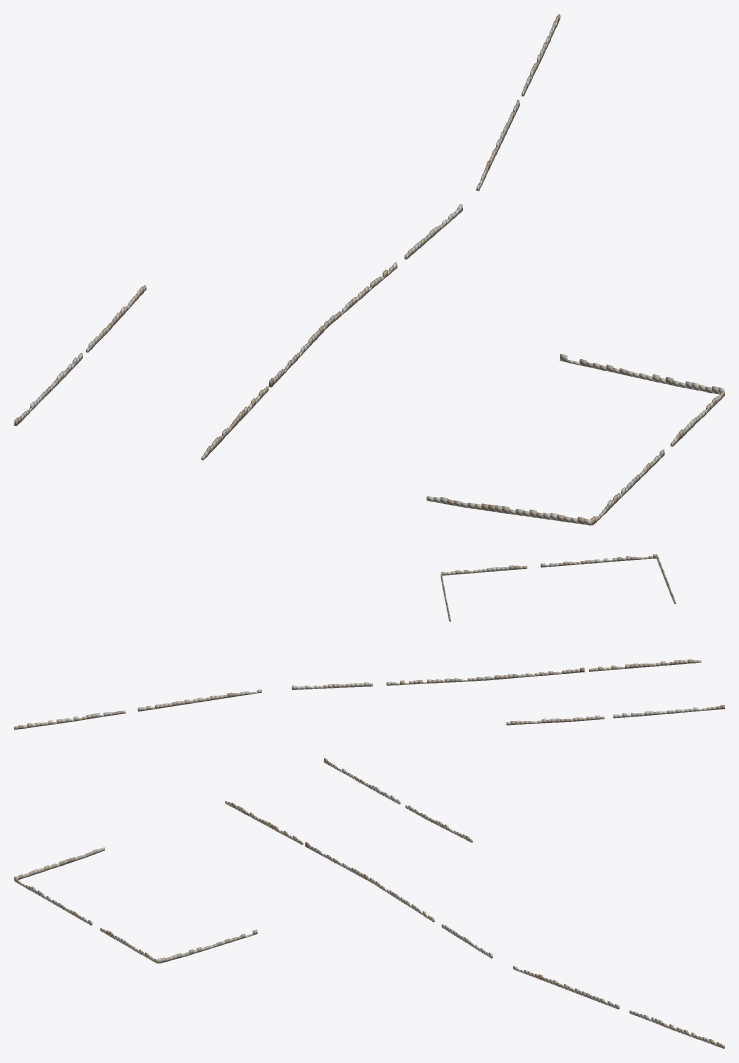
File: farm_28_16_far.glb
3 views of the same model, one above another, from view 1: azimuth 30°, elevation 25°; view 2: azimuth 150°, elevation 25°; view 3: azimuth 270°, elevation 25° (orthographic). The views are drawn at different scales.
Parts seen in each view (by area): view 1: geometry_0; view 2: geometry_0; view 3: geometry_0.
Part boxes in pixels (x1,y1,x2,y2): geometry_0: (14,14,724,525); geometry_0: (14,554,724,729); geometry_0: (14,758,724,1048).
Bounding box in the file's own units: 212 × 6.16 × 233.
